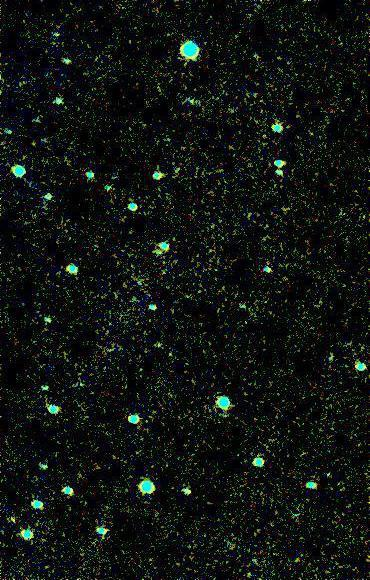star: (0, 509, 25, 539)
